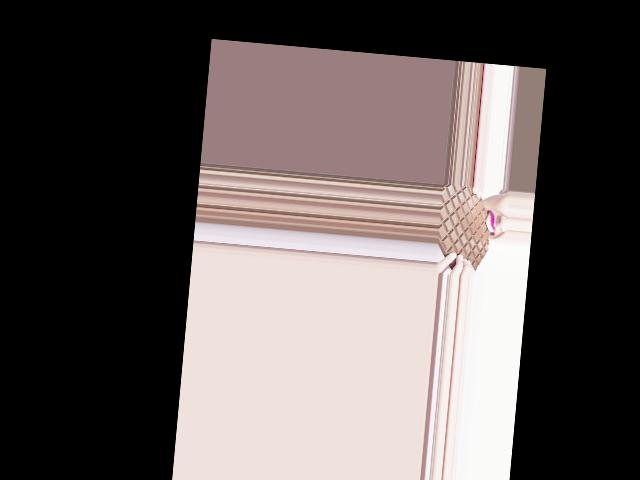chocolate: (434, 184, 496, 278)
